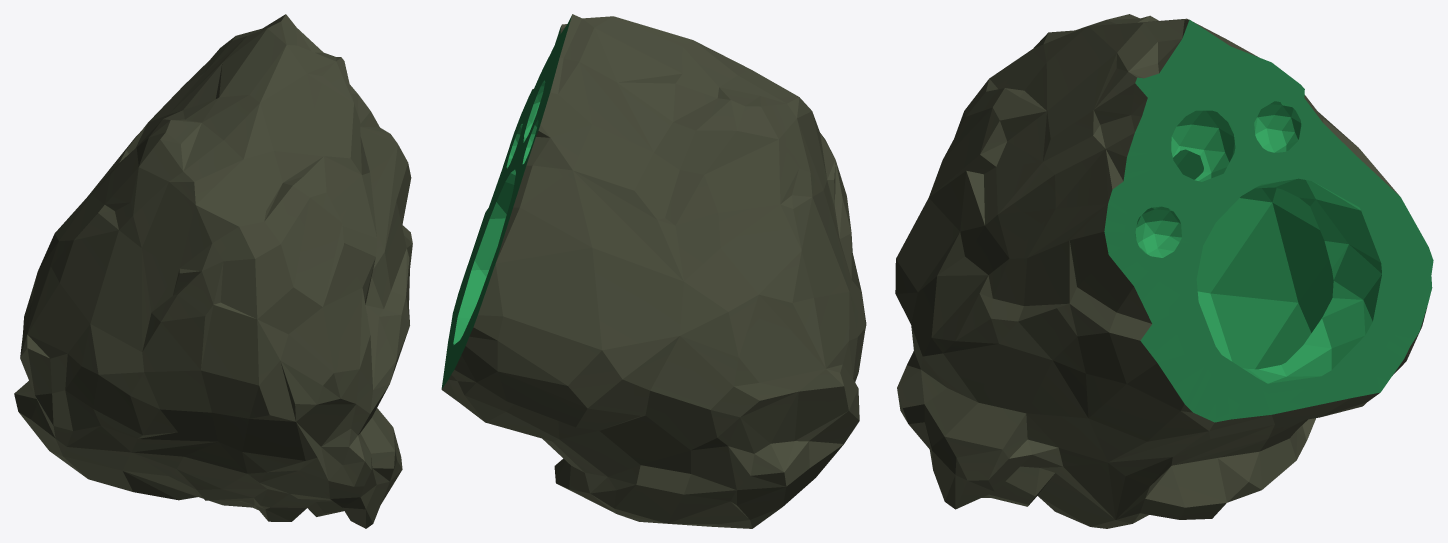
File: Geode.fbx
3 views of the same model, side by side, from view 1: azimuth 30°, elevation 25°; view 2: azimuth 150°, elevation 25°; view 3: azimuth 270°, elevation 25° (orthographic). The views are drawn at different scales.
Parts seen in each view (by area): view 1: SM_Middle_Rock_01_LOD0; view 2: SM_Middle_Rock_01_LOD0; view 3: SM_Middle_Rock_01_LOD0.
Part boxes in pixels (x1,y1,x2,y2): SM_Middle_Rock_01_LOD0: [14, 14, 412, 528]; SM_Middle_Rock_01_LOD0: [441, 14, 866, 528]; SM_Middle_Rock_01_LOD0: [895, 14, 1433, 528].
Bounding box in the file's own units: 461 × 557 × 507.
